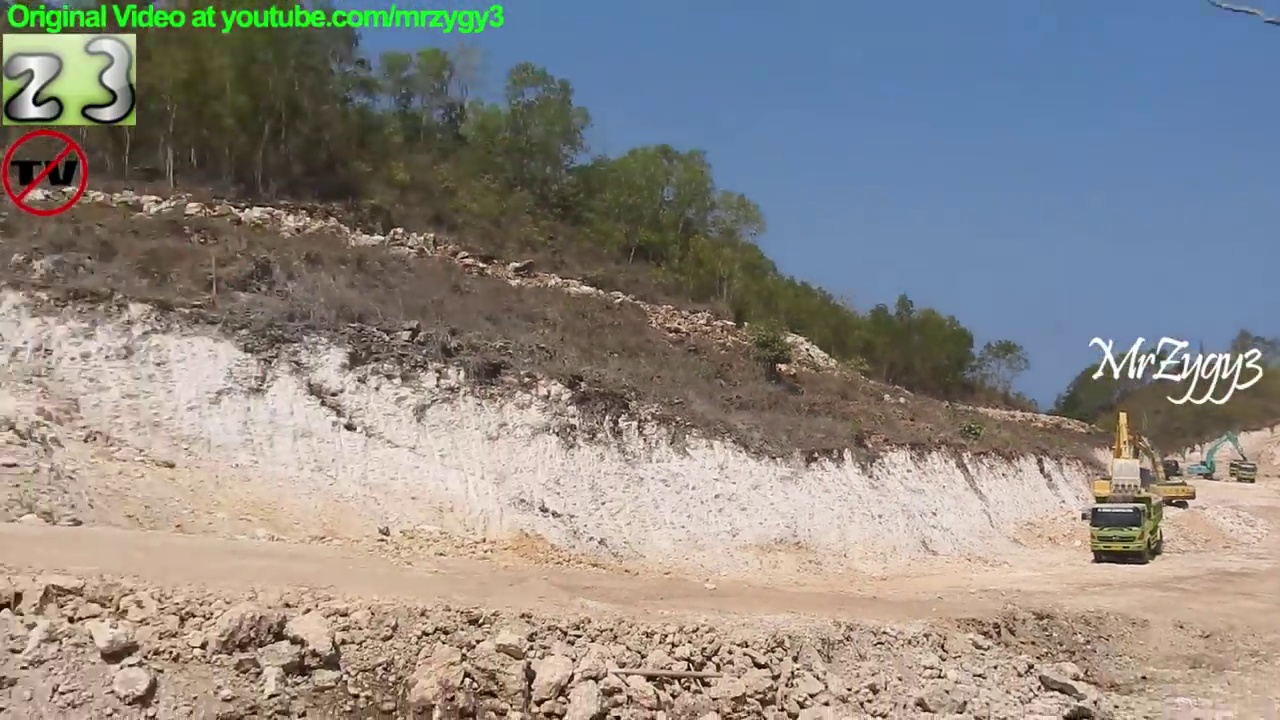excavator: (1082, 409, 1157, 517), (1115, 433, 1198, 513), (1126, 431, 1186, 490), (1186, 427, 1247, 483)
truck: (1079, 492, 1168, 565), (1237, 461, 1260, 489), (1226, 455, 1248, 479)
